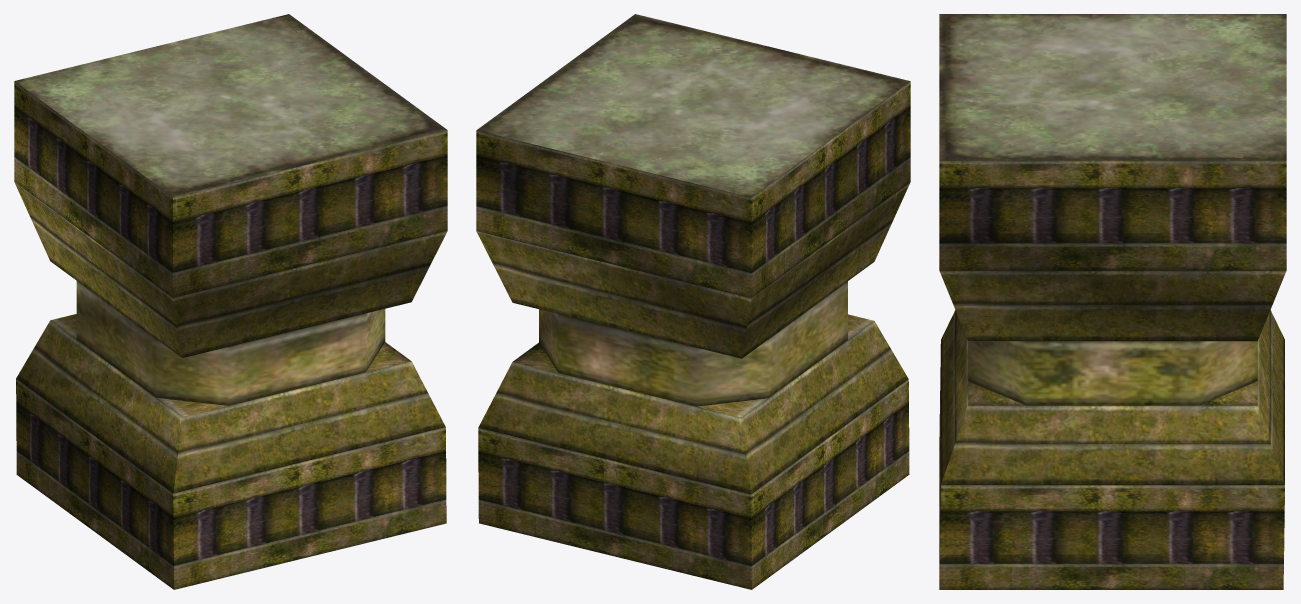
Rendered from OVERHILL_A_01_OBJECT238.fbx.
3 renders of one model, left to right at view 1: azimuth 30°, elevation 25°; view 2: azimuth 150°, elevation 25°; view 3: azimuth 270°, elevation 25°, orthographic. The views are drawn at different scales.
Parts seen in each view (by area): view 1: OVERHILL_A_01_OBJECT238; view 2: OVERHILL_A_01_OBJECT238; view 3: OVERHILL_A_01_OBJECT238.
Part boxes in pixels (bbox=[...]): OVERHILL_A_01_OBJECT238: bbox=[14, 14, 447, 589]; OVERHILL_A_01_OBJECT238: bbox=[476, 14, 910, 589]; OVERHILL_A_01_OBJECT238: bbox=[939, 14, 1286, 589].
Size of the model in its own units: 18045 by 24652 by 18045.
Materials: 5 (5 with a texture image).
